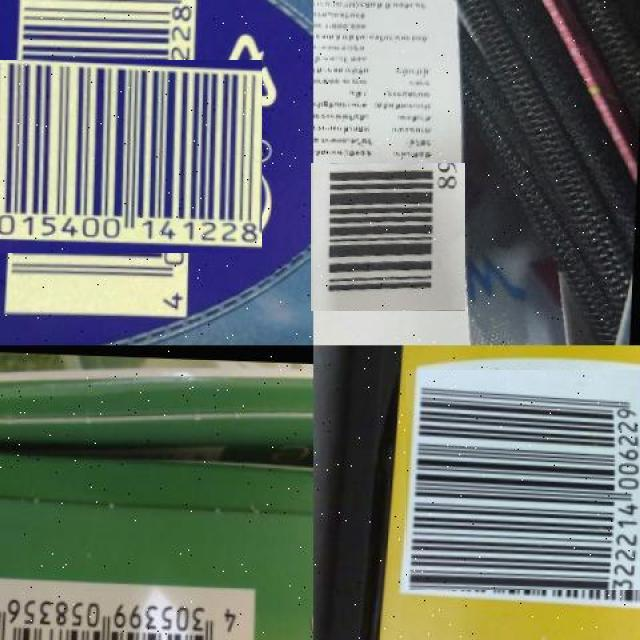Barcode: (0, 30, 232, 283), (412, 362, 640, 597), (312, 162, 463, 313), (0, 574, 261, 640)
